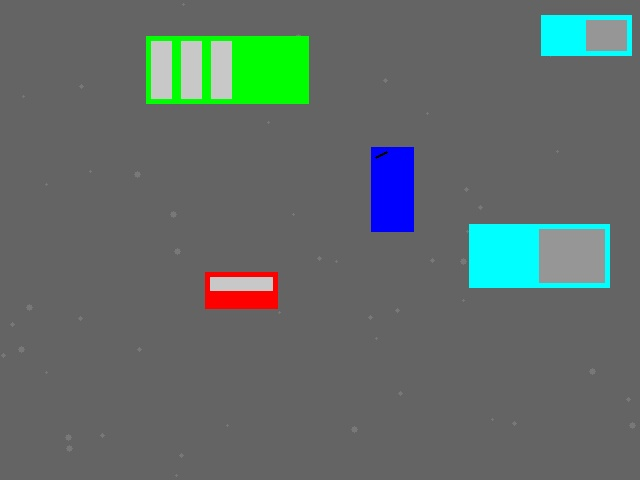bus: (146, 36, 308, 103)
car: (205, 272, 277, 308)
motorcycle: (371, 147, 413, 231)
truck: (469, 224, 609, 287), (541, 15, 631, 55)
